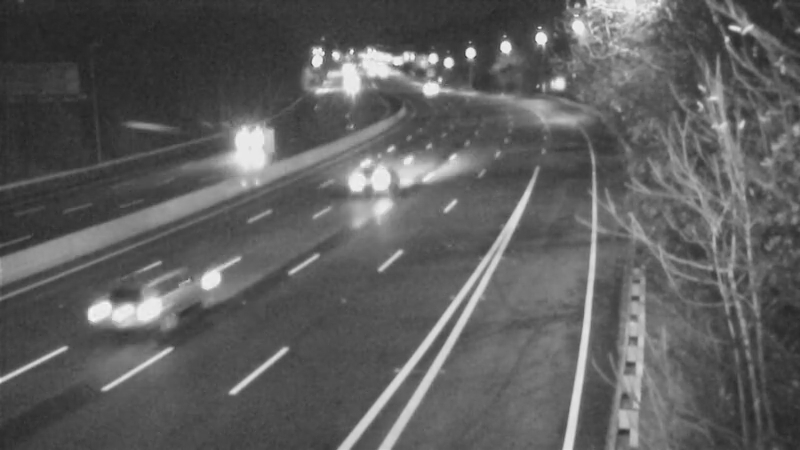vehicle: (324, 141, 404, 221), (94, 250, 174, 330), (402, 64, 452, 114), (218, 120, 268, 170)
